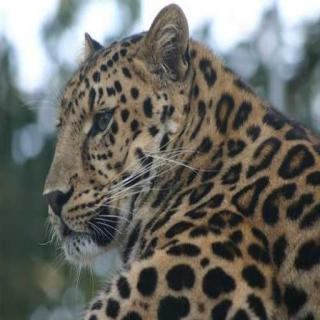Leopard: (31, 1, 320, 320)
